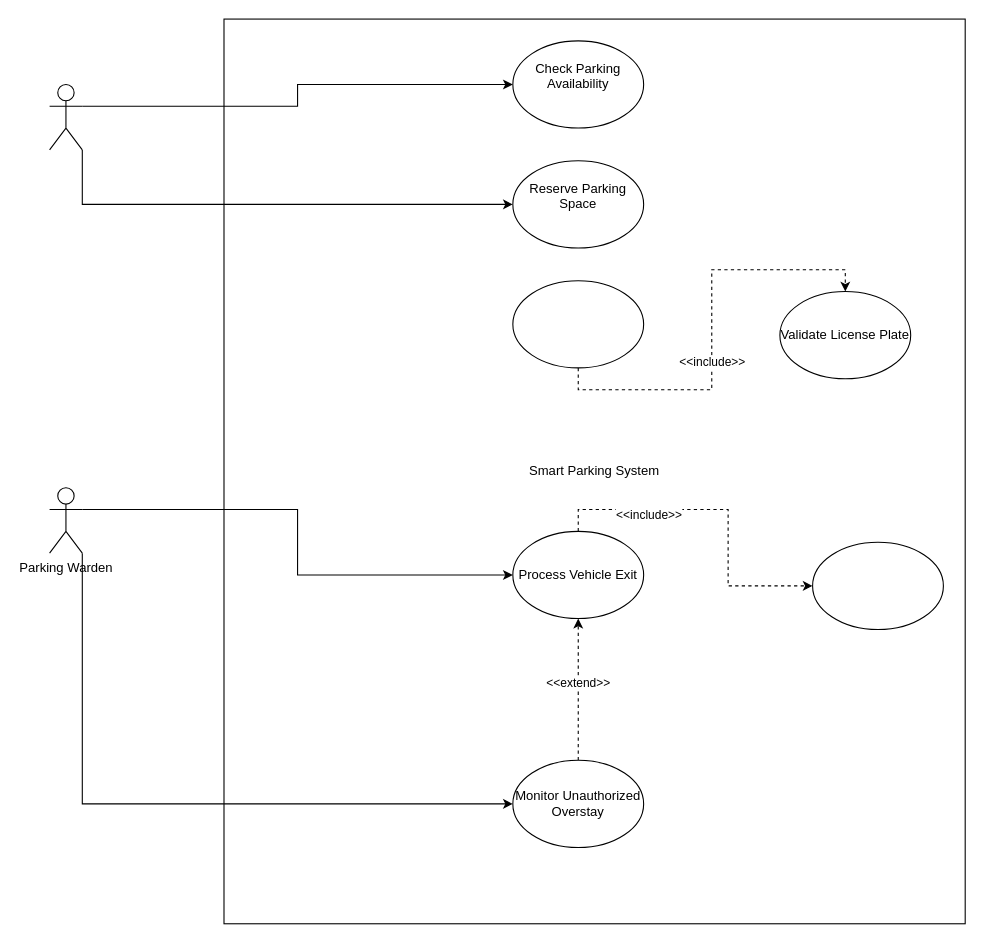
This 984x943 diagram has some shape labels left out. The centre of each missing label's shape, as x and y in pixels:
"Calculate Parking Fee" goes at pixel 877 585.
"Record Vehicle Entry" goes at pixel 578 324.
"Vehicle Owner" goes at pixel 65 116.
